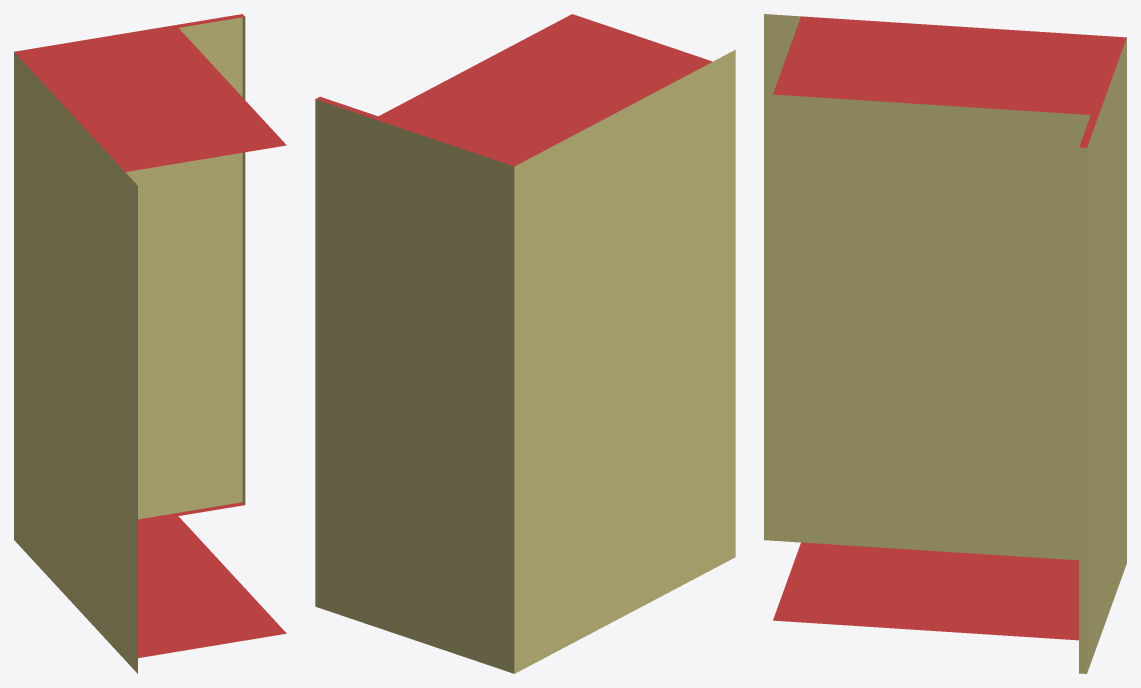
The picture shows the model from 3 angles, left to right: view 1: azimuth 30°, elevation 25°; view 2: azimuth 150°, elevation 25°; view 3: azimuth 270°, elevation 25°; orthographic projection. The views are drawn at different scales.
Bounding box in the file's own units: 5.99 × 6.86 × 10.98.
